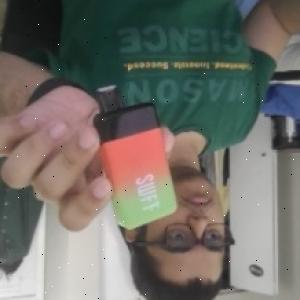Swift-E-Ciggirate: (91, 83, 183, 231)
